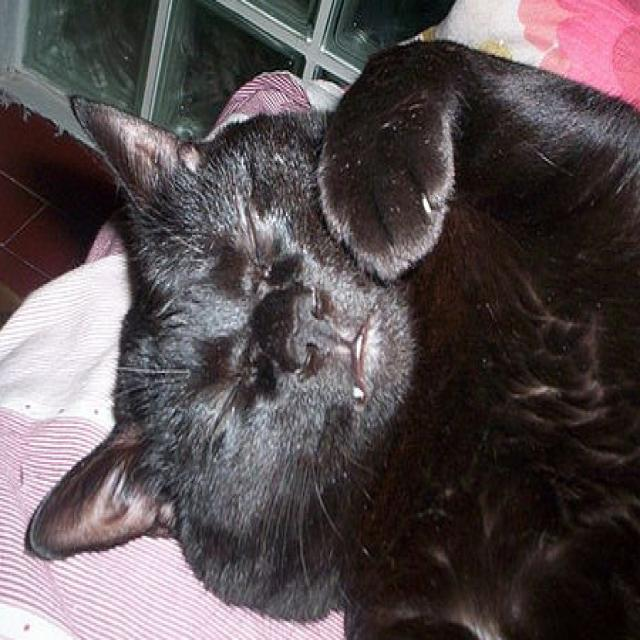Bombay: (23, 32, 640, 640)
